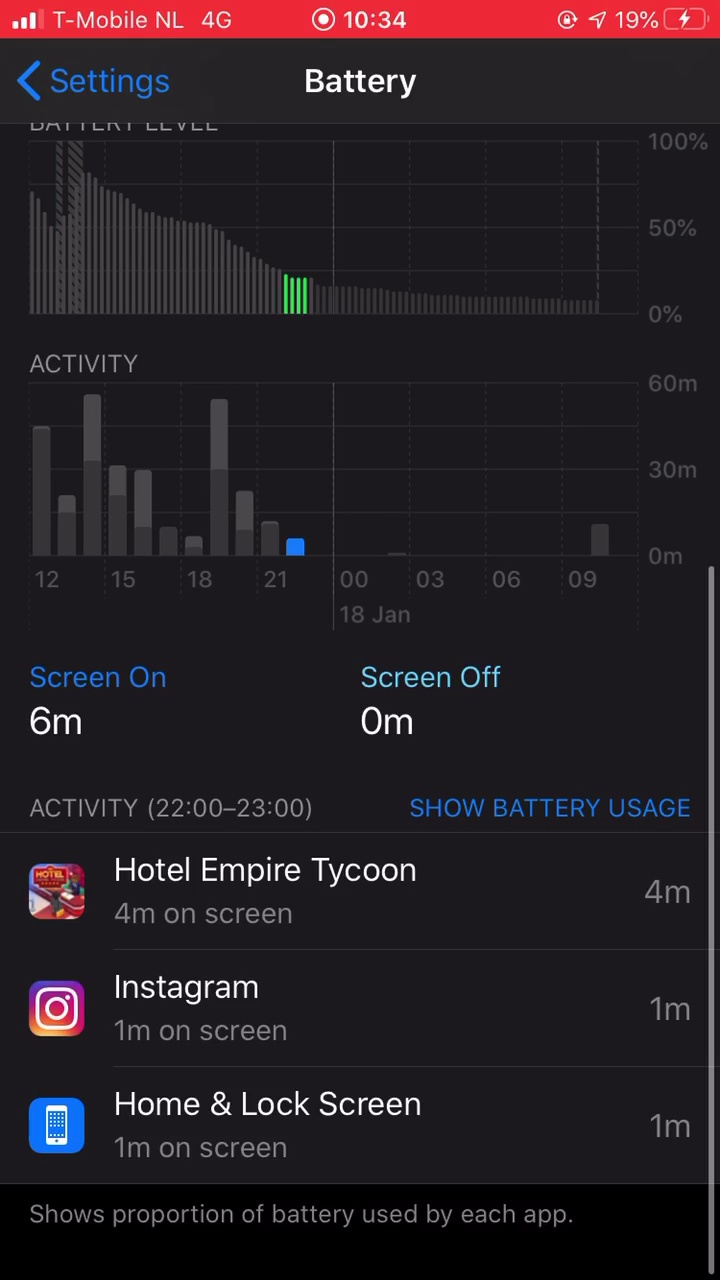activity: (17, 787, 326, 826)
app: (11, 850, 705, 944), (11, 962, 705, 1056), (7, 1077, 701, 1171)
